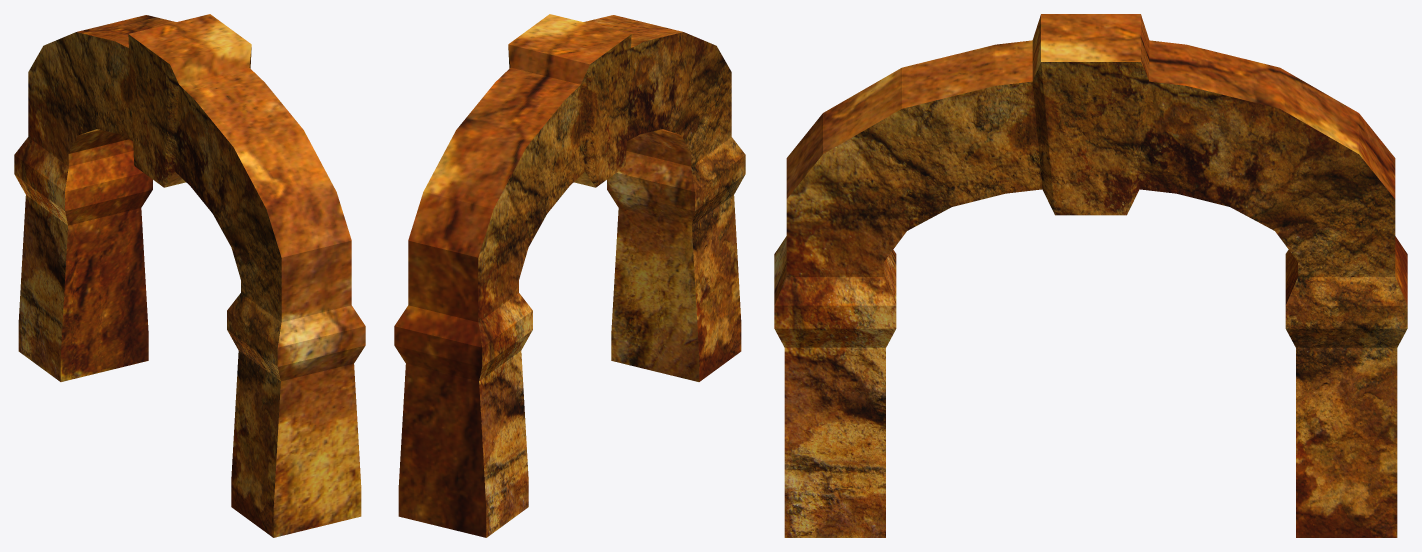
Rendered from pillar.dae.
3 renders of one model, left to right at view 1: azimuth 30°, elevation 25°; view 2: azimuth 150°, elevation 25°; view 3: azimuth 270°, elevation 25°, orthographic. The views are drawn at different scales.
Visible parts, largest first — view 1: Cube; view 2: Cube; view 3: Cube.
Part boxes in pixels (x1,y1,x2,y2): Cube: (14,14,365,537); Cube: (394,14,745,537); Cube: (774,14,1407,537).
Bounding box in the file's own units: 2.38 × 12.34 × 10.2.
1 material, 1 textured.
